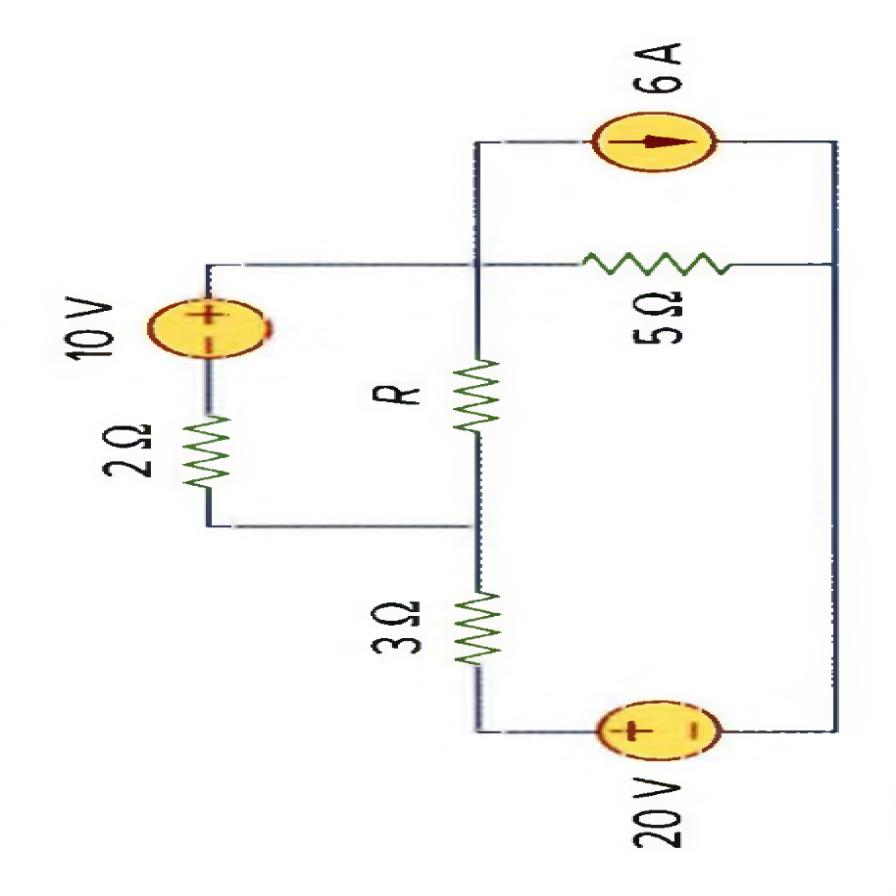I2: (584, 112, 718, 173)
V4: (596, 701, 722, 761)
